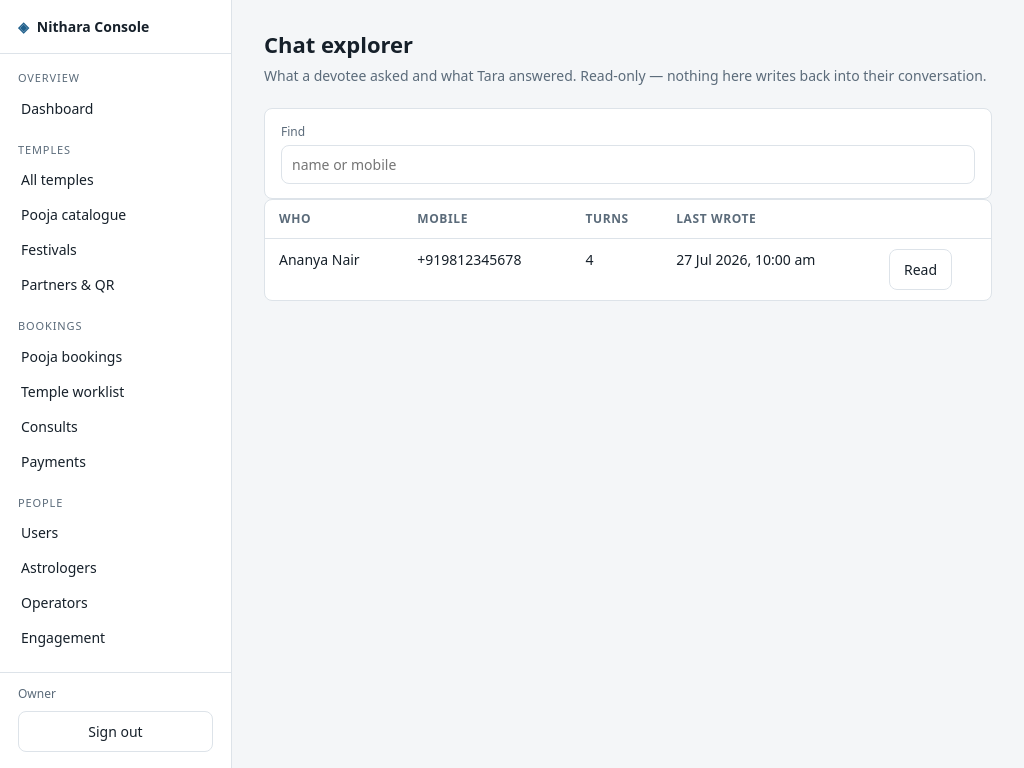
Test case: the chat explorer › shows what they asked and what Tara answered
Check: the text "Ananya Nair" is shown, box [265, 238, 403, 300]
Click the button "Read" at (921, 270), box [889, 249, 952, 290]
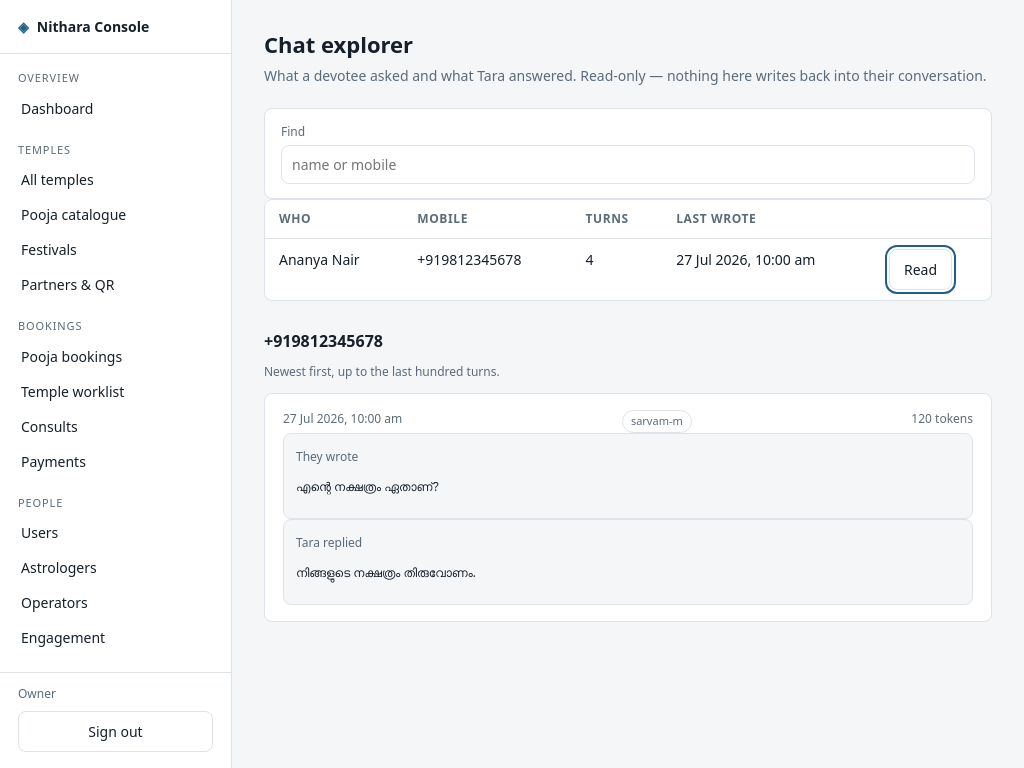
Check: the text "എന്റെ നക്ഷത്രം ഏതാണ്?" is shown, box [296, 478, 439, 494]
Check: the text "നിങ്ങളുടെ നക്ഷത്രം തിരുവോണം." is shown, box [296, 564, 476, 580]
